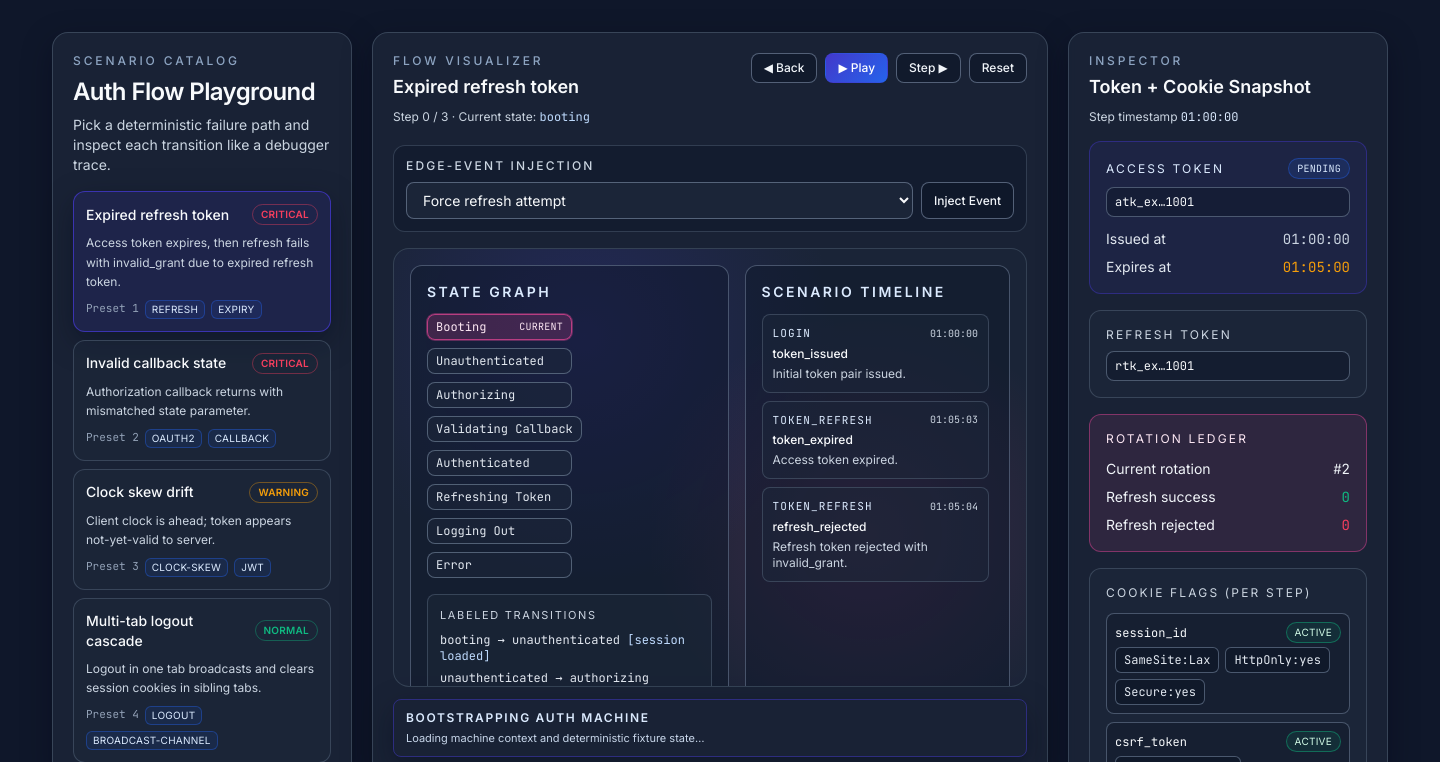
Scenario: flow visualizer controls › play and pause toggle timeline runner state
Click the button "▶ Play": (857, 68) [825,53,888,83]
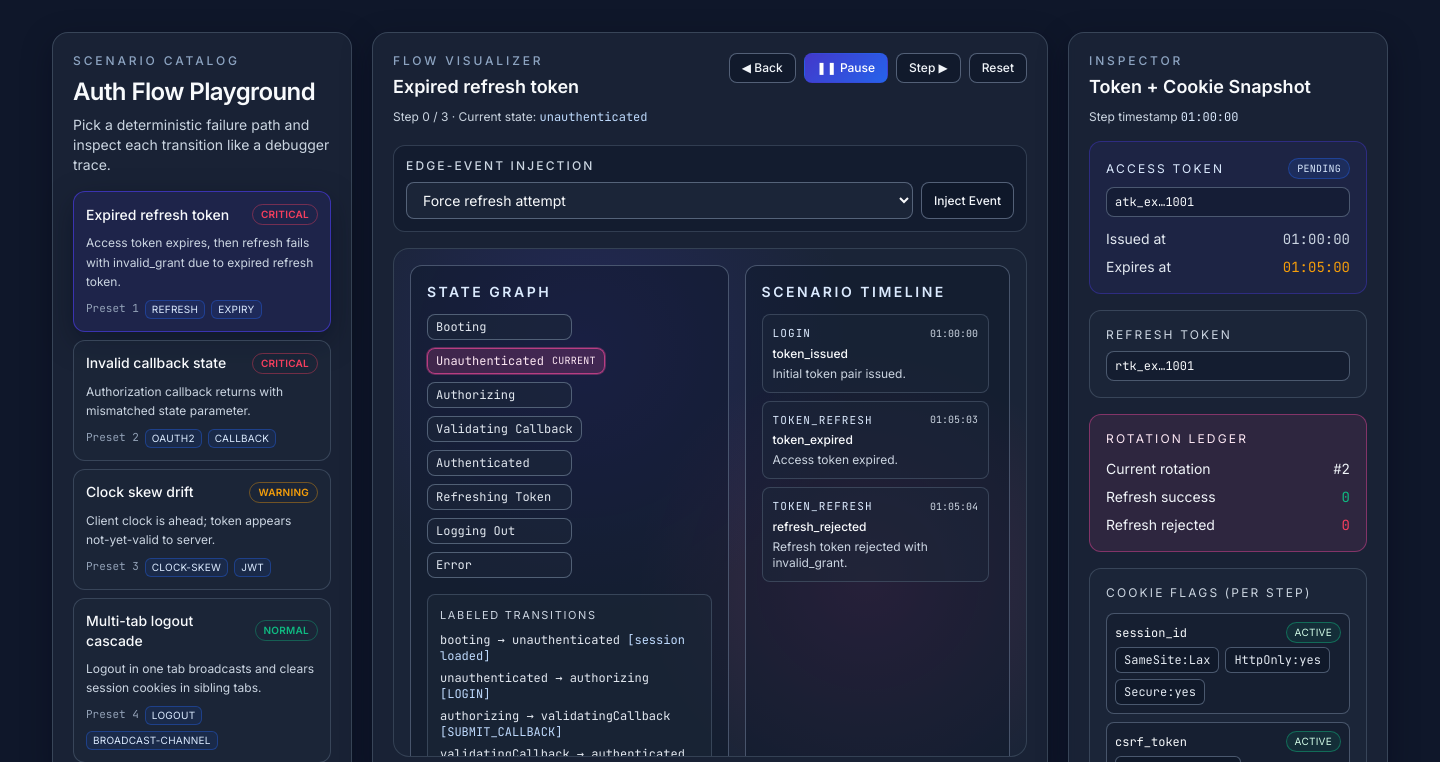
Expected: the button "❚❚ Pause" is shown
Click the button "❚❚ Pause": (846, 68) [804,53,888,83]
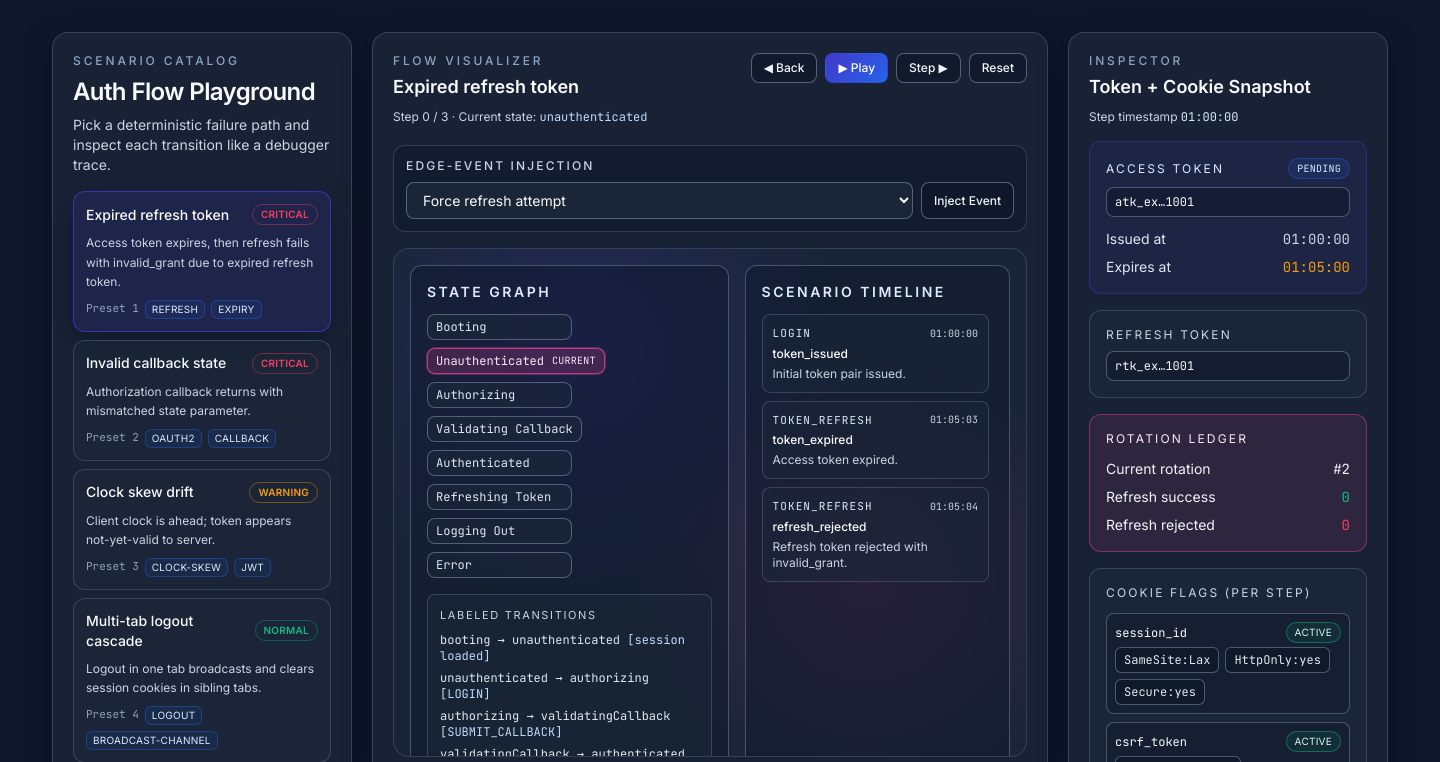
Expected: the button "▶ Play" is shown, [825,53,888,83]
